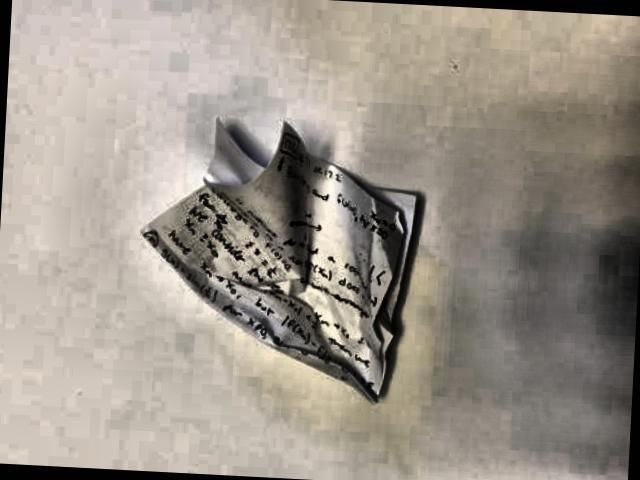Paper: (133, 110, 427, 400)
